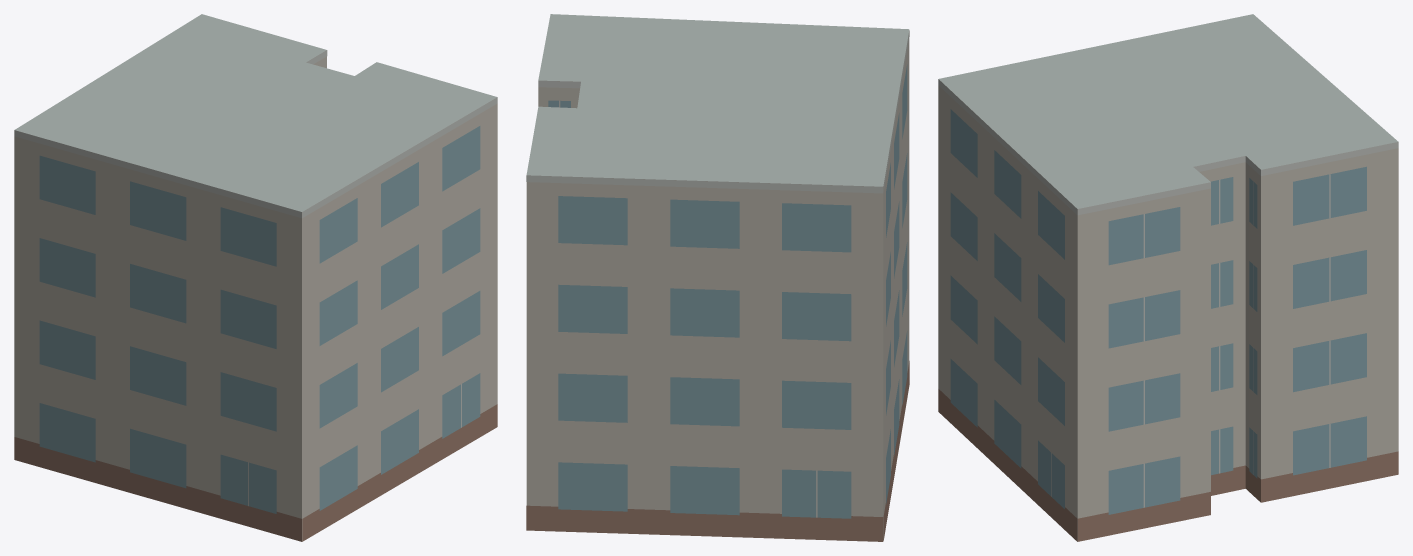
File: survey-upis-32910465.glb
3 views of the same model, side by side, from view 1: azimuth 30°, elevation 25°; view 2: azimuth 150°, elevation 25°; view 3: azimuth 270°, elevation 25° (orthographic). The views are drawn at different scales.
Visible parts, largest first — view 1: survey-upis-32910465.tmp; view 2: survey-upis-32910465.tmp; view 3: survey-upis-32910465.tmp.
Part boxes in pixels (bbox=[...]): survey-upis-32910465.tmp: bbox=[14, 14, 497, 541]; survey-upis-32910465.tmp: bbox=[526, 14, 909, 541]; survey-upis-32910465.tmp: bbox=[938, 14, 1398, 541].
Bounding box in the file's own units: 16.2 × 12.88 × 16.15.
